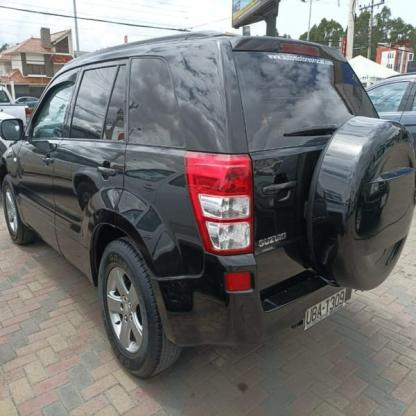Placa: (301, 288, 351, 337)
